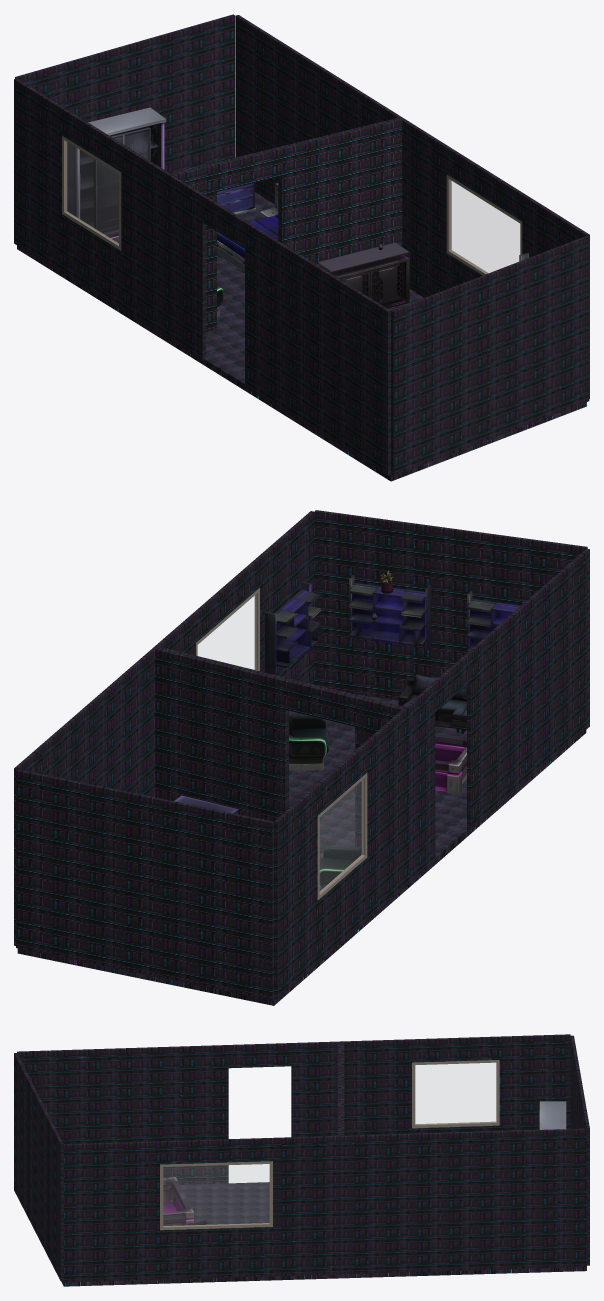
Rendered from cyberpunk-home.glb.
3 renders of one model, top to bottom at view 1: azimuth 30°, elevation 25°; view 2: azimuth 150°, elevation 25°; view 3: azimuth 270°, elevation 25°, orthographic. The views are drawn at different scales.
Visible parts, largest first — view 1: geometry_0.008, geometry_0.007, geometry_0.003, geometry_0.004, geometry_0.002, geometry_0.001, geometry_0.009, geometry_0.014, glass.001, geometry_0.006, geometry_0.016, glass (+6 smaller); view 2: geometry_0.002, geometry_0.007, geometry_0.008, geometry_0.011, geometry_0.003, geometry_0.001, geometry_0.009, geometry_0.006, geometry_0.019, geometry_0.021, glass, glass.001 (+9 smaller); view 3: geometry_0.001, geometry_0.009, geometry_0.007, geometry_0.003, geometry_0.008, glass.001, glass, geometry_0.006, geometry_0.002, frame.001, geometry_0, frame (+3 smaller).
Boxes of the visible parts, bbox=[...] form: geometry_0.008: bbox=[391, 236, 589, 475]; geometry_0.007: bbox=[169, 175, 390, 475]; geometry_0.003: bbox=[14, 78, 171, 339]; geometry_0.004: bbox=[172, 119, 402, 332]; geometry_0.002: bbox=[15, 14, 235, 173]; geometry_0.001: bbox=[235, 15, 403, 204]; geometry_0.009: bbox=[401, 118, 589, 398]; geometry_0.014: bbox=[67, 107, 166, 238]; glass.001: bbox=[450, 180, 519, 273]; geometry_0.006: bbox=[172, 289, 586, 481]; geometry_0.016: bbox=[317, 242, 409, 308]; glass: bbox=[66, 142, 118, 243]; geometry_0.002: bbox=[16, 769, 273, 1000]; geometry_0.007: bbox=[404, 548, 589, 885]; geometry_0.008: bbox=[314, 510, 587, 700]; geometry_0.011: bbox=[155, 648, 402, 846]; geometry_0.003: bbox=[274, 708, 407, 999]; geometry_0.001: bbox=[14, 647, 156, 945]; geometry_0.009: bbox=[154, 511, 314, 684]; geometry_0.006: bbox=[289, 694, 586, 891]; geometry_0.019: bbox=[348, 575, 431, 650]; geometry_0.021: bbox=[265, 581, 321, 674]; glass: bbox=[320, 780, 363, 892]; glass.001: bbox=[198, 595, 256, 669]; geometry_0.001: bbox=[341, 1128, 586, 1274]; geometry_0.009: bbox=[64, 1136, 341, 1282]; geometry_0.007: bbox=[17, 1041, 340, 1184]; geometry_0.003: bbox=[341, 1034, 570, 1135]; geometry_0.008: bbox=[14, 1053, 63, 1281]; glass.001: bbox=[163, 1164, 269, 1226]; glass: bbox=[415, 1063, 496, 1124]; geometry_0.006: bbox=[61, 1182, 340, 1286]; geometry_0.002: bbox=[570, 1035, 589, 1265]; frame.001: bbox=[160, 1161, 272, 1230]; geometry_0: bbox=[341, 1267, 586, 1278]; frame: bbox=[412, 1060, 499, 1128].
Bounding box in the file's own units: 4.52 × 2.7 × 9.9.
14 materials, 12 textured.
